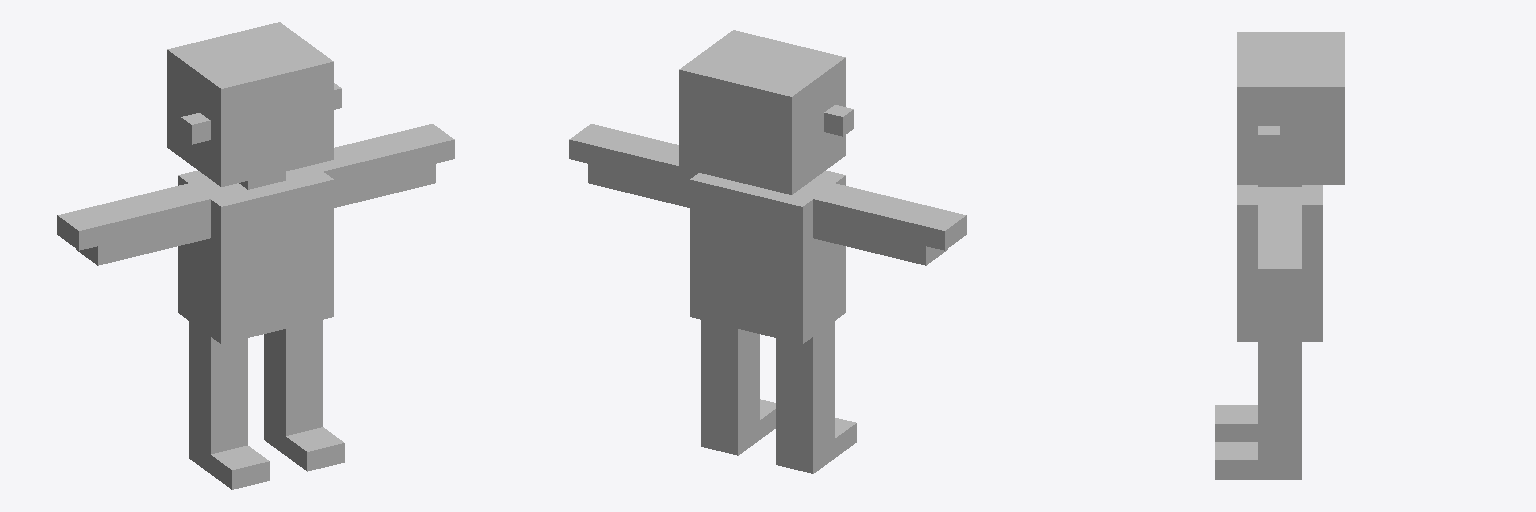
The model's file is old_man.obj.
The picture shows the model from 3 angles: view 1: azimuth 30°, elevation 25°; view 2: azimuth 150°, elevation 25°; view 3: azimuth 270°, elevation 25°; orthographic projection.
Parts seen in each view (by area): view 1: object 1; view 2: object 1; view 3: object 1.
Boxes of the visible parts, box(x1,y1,x2,y2) form: object 1: box(57, 22, 454, 489); object 1: box(569, 30, 966, 473); object 1: box(1215, 32, 1344, 479).
Size of the model in its own units: 2 by 2 by 0.6.